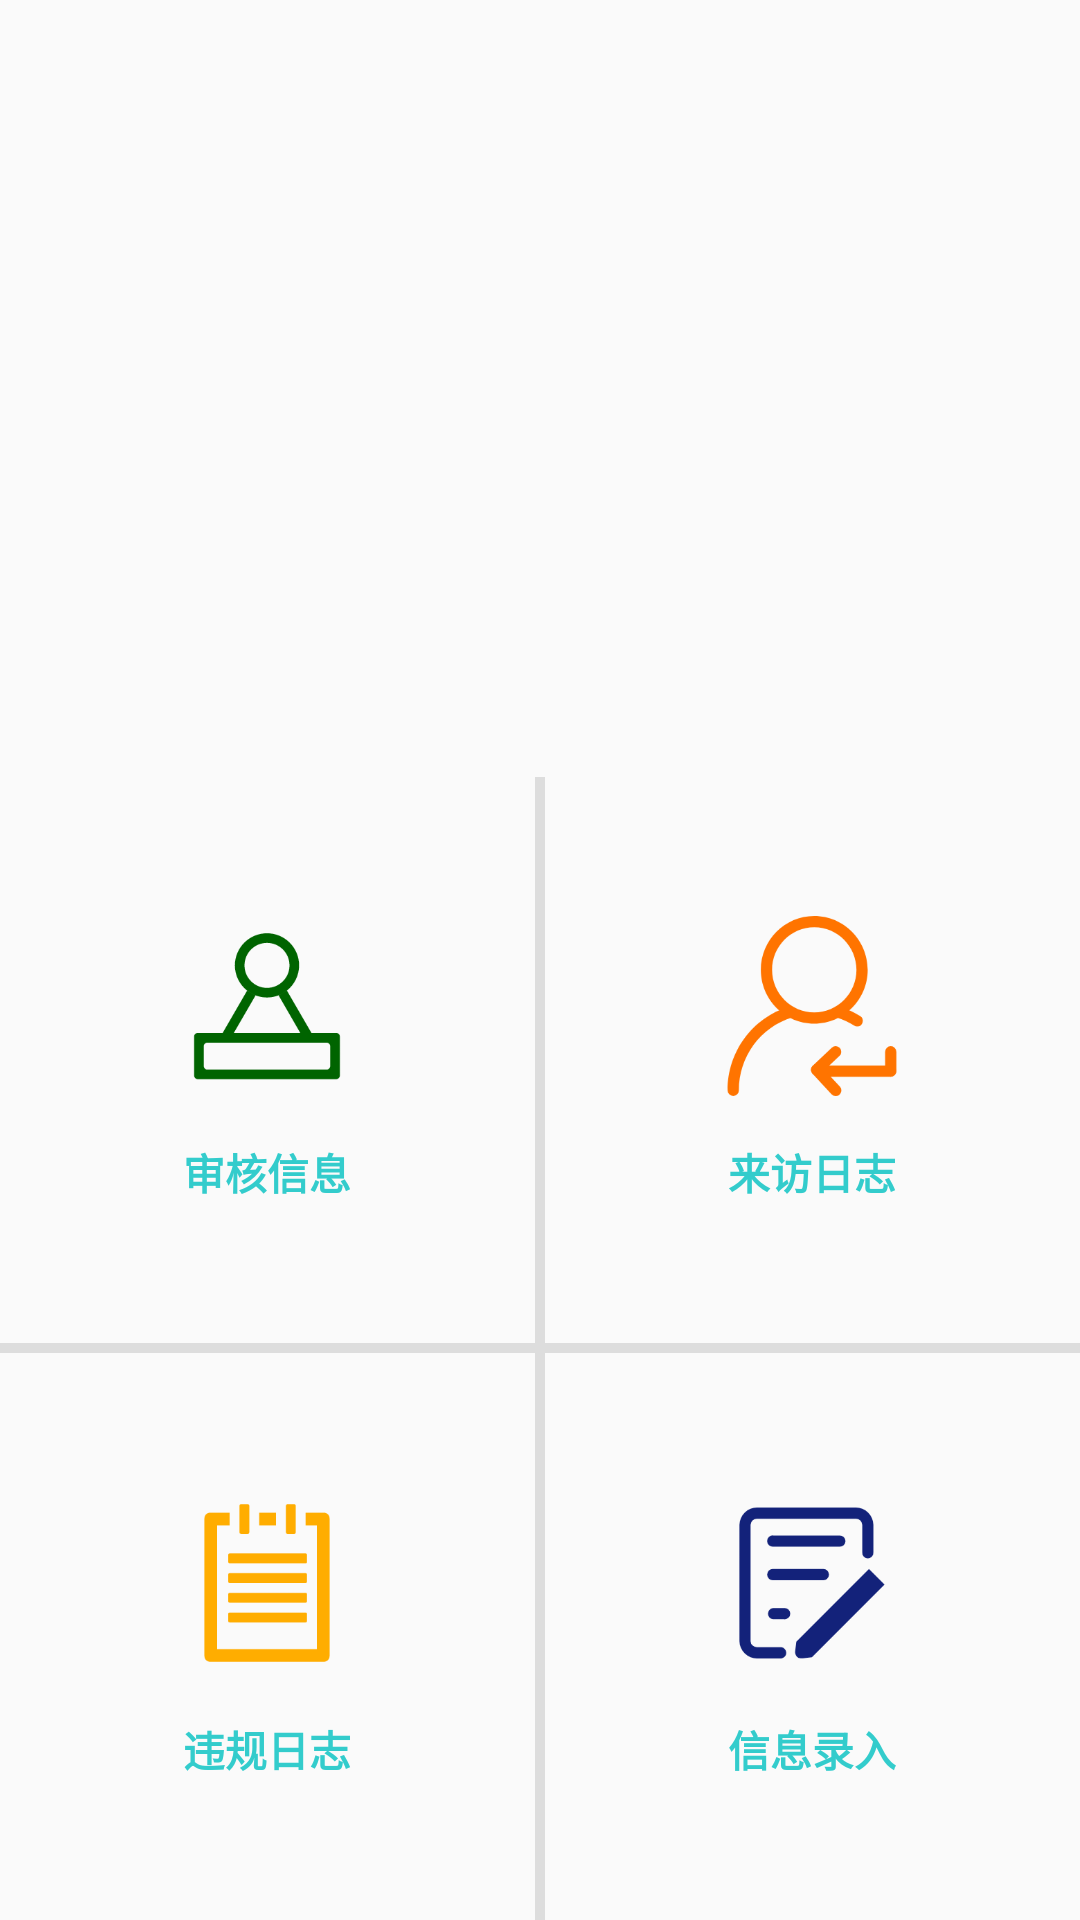

Screen size 1080px×1920px. Icon name, then its center in pixels as (x=x, y=y):
broken record: (x=267, y=1583)
info input: (x=812, y=1583)
verify: (x=267, y=1006)
